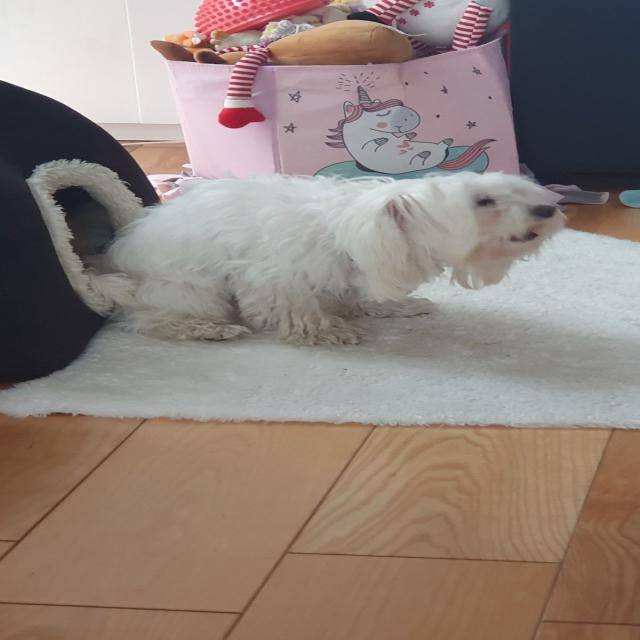maltese: (94, 174, 571, 347)
